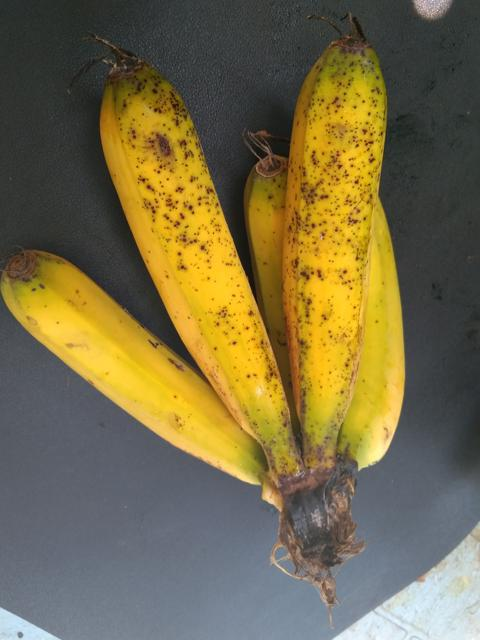ripe: (88, 45, 304, 507), (258, 28, 394, 470)
